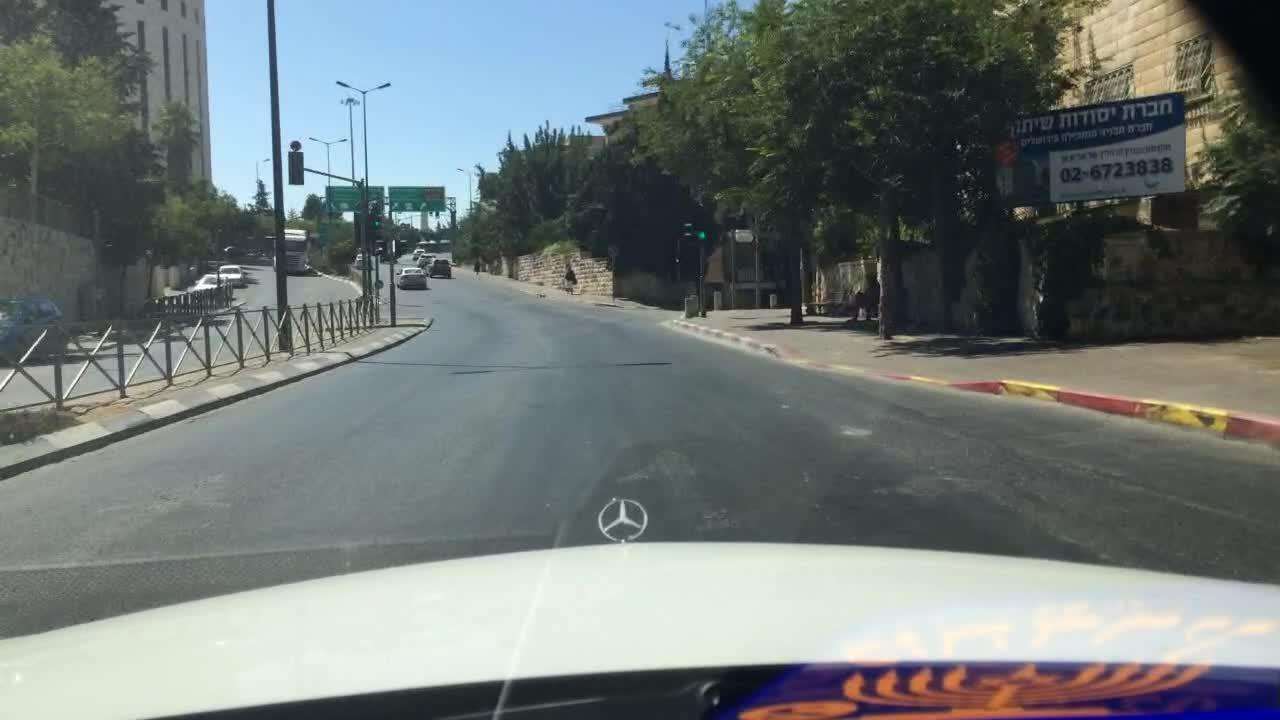Mercedes: (594, 492, 652, 547)
